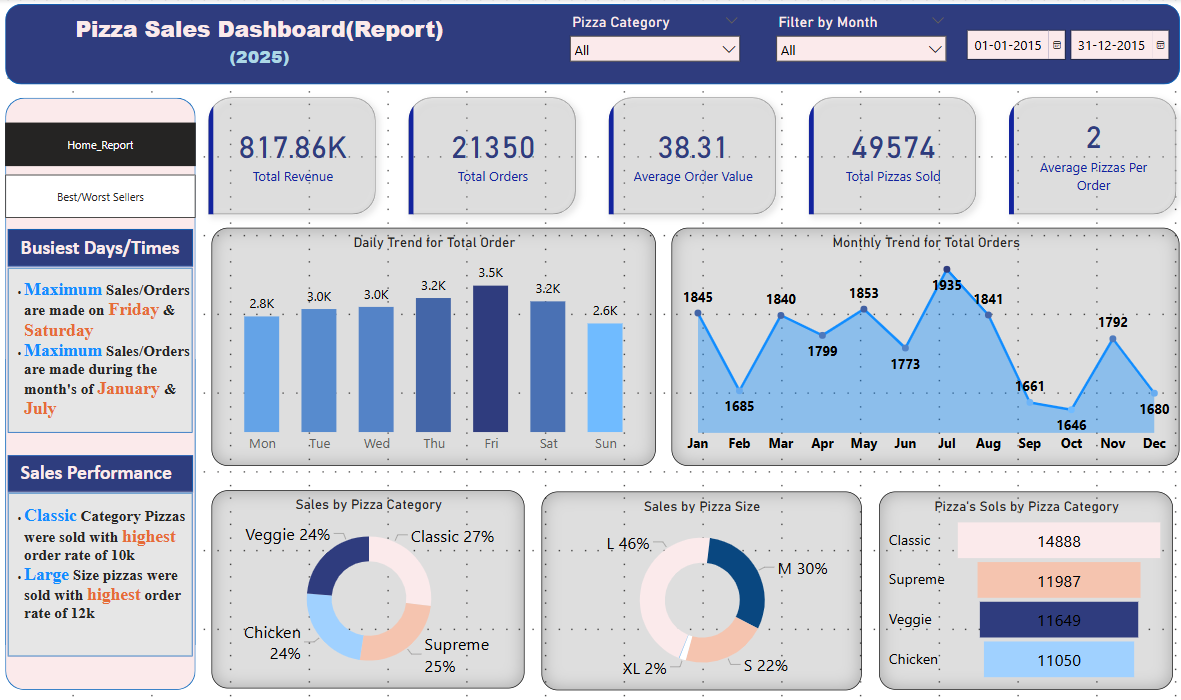

What the dashboard file says about the page in this screenshot:
{"tool":"powerbi","page":{"name":"Home_Report","canvas":[1460,867],"ordinal":0},"visuals":[{"type":"cardVisual","fields":{"Data":["pizza_sales.Total Revenue","pizza_sales.Total Orders","pizza_sales.Average Order Value","pizza_sales.Total Pizzas Sold","pizza_sales.Average Pizzas Per Order"]},"box":[245.5,103.3,1213.8,175.3],"z":0},{"type":"shape","title":"Pizza Sales Analysis/Dashboard  (2015)","box":[14,6,1432,98],"z":1000},{"type":"textbox","box":[0,11.7,646.8,91.6],"z":2000},{"type":"columnChart","title":"Daily Trend for Total Order","fields":{"Category":["pizza_sales.Order Day"],"Y":["pizza_sales.Total Orders"]},"box":[265,278.6,541.6,290.3],"z":3000},{"type":"areaChart","title":"Monthly Trend for Total Orders","fields":{"Category":["pizza_sales.Order Month"],"Y":["pizza_sales.Total Orders"]},"box":[826.1,278.6,619.6,290.3],"z":4000},{"type":"donutChart","title":"Sales by Pizza Category","fields":{"Category":["pizza_sales.pizza_category"],"Y":["pizza_sales.Total Revenue"]},"box":[265,598.1,381.9,241.6],"z":5000},{"type":"funnel","title":"Pizza''s Sols by Pizza Category","fields":{"Category":["pizza_sales.pizza_category"],"Y":["pizza_sales.Total Pizzas Sold"]},"box":[1079.4,600.1,358.5,241.6],"z":6000},{"type":"donutChart","title":"Sales by Pizza Size","fields":{"Y":["pizza_sales.Total Revenue"],"Category":["pizza_sales.pizza_size"]},"box":[668,600,390,242],"z":7000},{"type":"shape","box":[14,120,232,722],"z":8000},{"type":"shape","box":[14,278,232,52],"z":9000},{"type":"shape","box":[14,552.7,232,52],"z":10000},{"type":"shape","box":[14.2,324.2,231.7,207.5],"z":11000},{"type":"shape","box":[14.2,598.3,231.7,205.8],"z":12000},{"type":"slicer","fields":{"Values":["pizza_sales.pizza_category"]},"box":[691.7,11.7,228,76],"z":13000},{"type":"slicer","fields":{"Values":["pizza_sales.order_date"]},"box":[1172.9,27.3,265,52.6],"z":14000},{"type":"slicer","fields":{"Values":["pizza_sales.Order Month"]},"box":[943,11.7,228,76],"z":15000},{"type":"textbox","box":[28,557,263,41],"z":16000},{"type":"textbox","box":[28,284,263,40],"z":17000},{"type":"textbox","box":[14,336,232,196],"z":18000},{"type":"textbox","box":[14,612,232,178],"z":19000},{"type":"pageNavigator","box":[13.8,151.2,232.5,117.5],"z":21000}]}

Visuals, with their boxes in screenshot pixels (x1, y1, x2, y2), scaled from the page's 1460x867 canvas onto the 1181x700 screenshot:
cardVisual - pizza_sales.Total Revenue x pizza_sales.Total Orders: x1=199 y1=83 x2=1180 y2=225
"Pizza Sales Analysis/Dashboard  (2015)" shape: x1=11 y1=5 x2=1170 y2=84
textbox: x1=0 y1=9 x2=523 y2=83
"Daily Trend for Total Order" columnChart: x1=214 y1=225 x2=652 y2=459
"Monthly Trend for Total Orders" areaChart: x1=668 y1=225 x2=1169 y2=459
"Sales by Pizza Category" donutChart: x1=214 y1=483 x2=523 y2=678
"Pizza''s Sols by Pizza Category" funnel: x1=873 y1=485 x2=1163 y2=680
"Sales by Pizza Size" donutChart: x1=540 y1=484 x2=856 y2=680
shape: x1=11 y1=97 x2=199 y2=680
shape: x1=11 y1=224 x2=199 y2=266
shape: x1=11 y1=446 x2=199 y2=488
shape: x1=11 y1=262 x2=199 y2=429
shape: x1=11 y1=483 x2=199 y2=649
slicer - pizza_sales.pizza_category: x1=560 y1=9 x2=744 y2=71
slicer - pizza_sales.order_date: x1=949 y1=22 x2=1163 y2=65
slicer - pizza_sales.Order Month: x1=763 y1=9 x2=947 y2=71
textbox: x1=23 y1=450 x2=235 y2=483
textbox: x1=23 y1=229 x2=235 y2=262
textbox: x1=11 y1=271 x2=199 y2=430
textbox: x1=11 y1=494 x2=199 y2=638
pageNavigator: x1=11 y1=122 x2=199 y2=217
